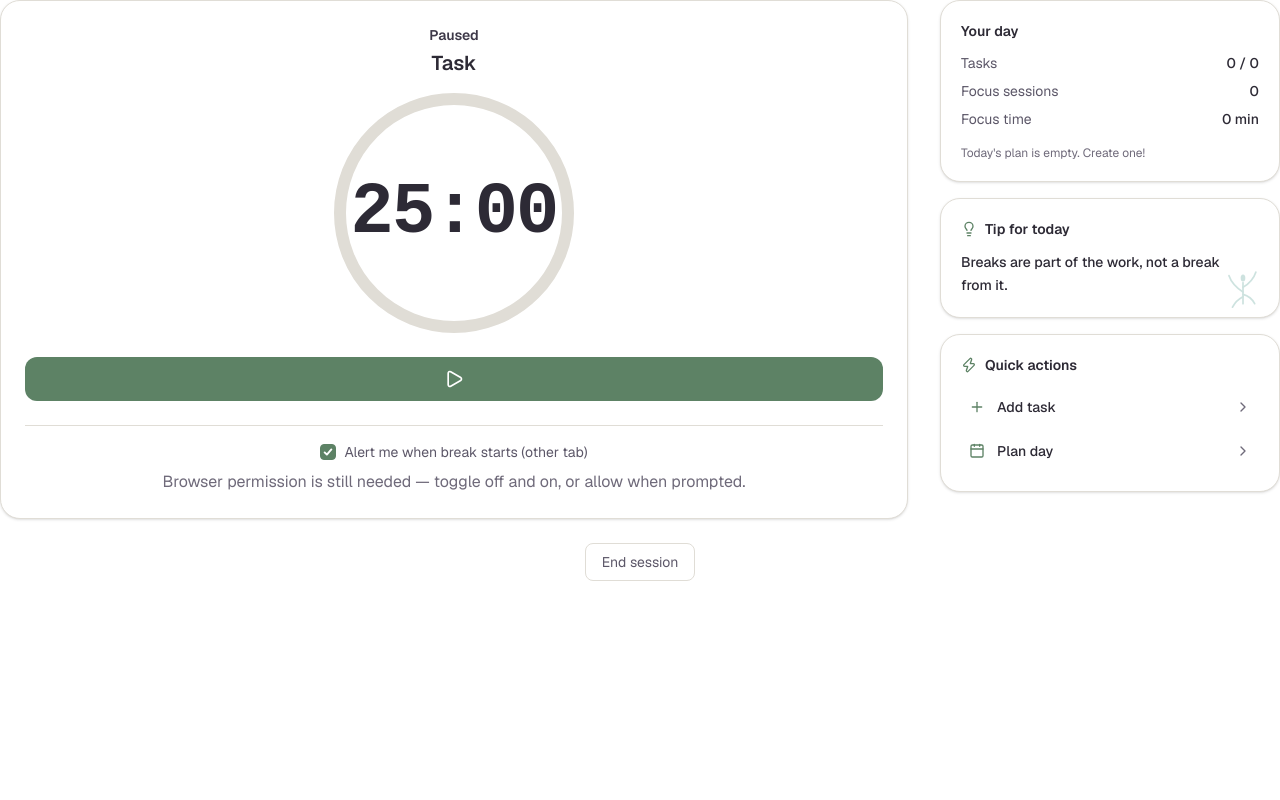
PomodoroDashboardBody end session while running › shows after-pause confirm on end session click when paused
The width and height of the screenshot is (1280, 800).
Click the button with test id "end-session-btn". click: point(640, 562)
box: [585,543,695,581]
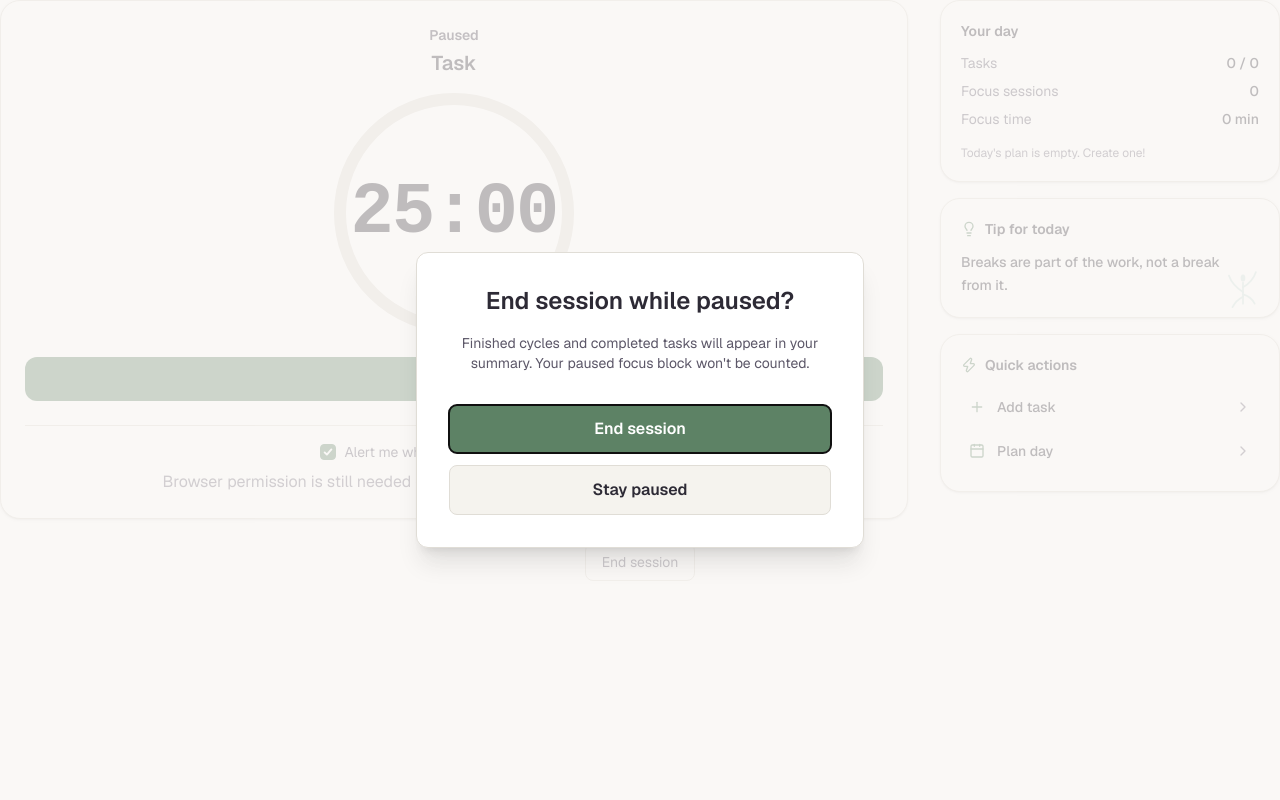
Expected: the dialog with test id "end-session-confirm-overlay" is shown
Expected: the button "Stay paused" is shown, [449,465,831,515]
